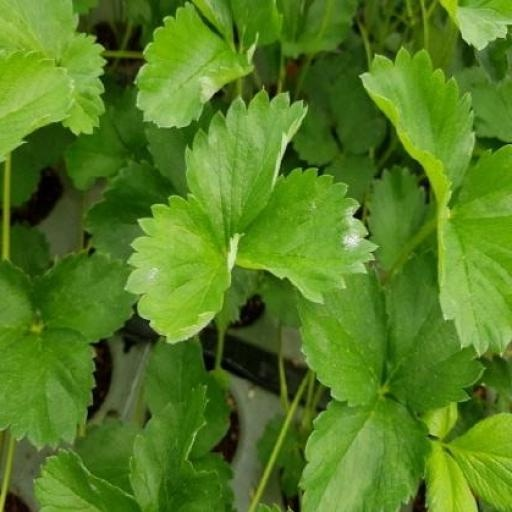Powdery Mildew Leaf: (132, 165, 278, 305), (203, 85, 329, 242), (266, 191, 389, 345), (252, 2, 381, 129)
